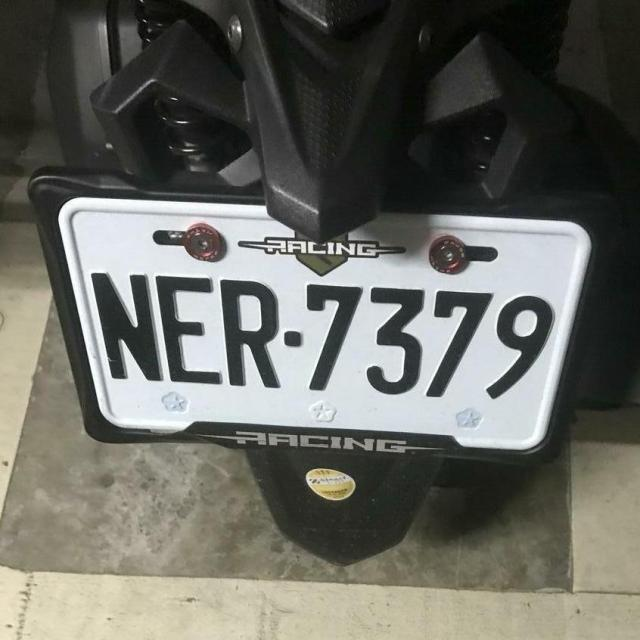W: (58, 192, 593, 454)
